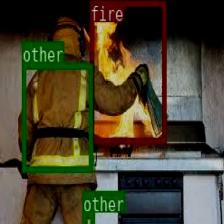fire: (89, 0, 165, 143)
